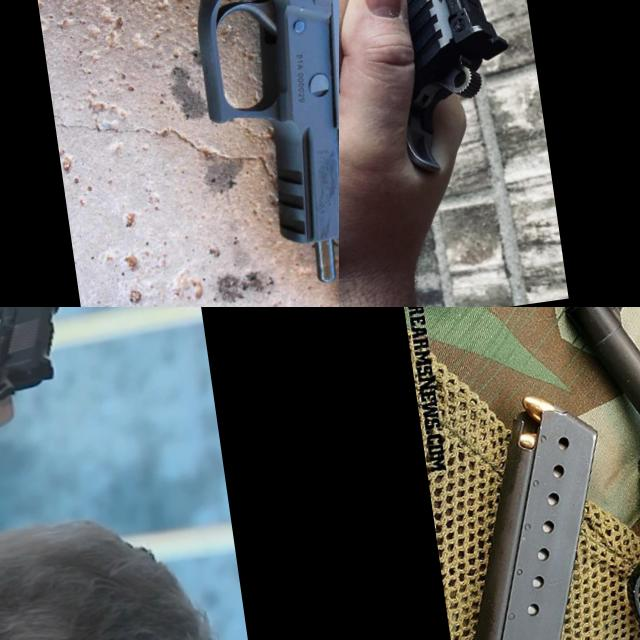handgun: (3, 0, 339, 307), (339, 0, 537, 248), (515, 307, 640, 640), (0, 307, 99, 412)
